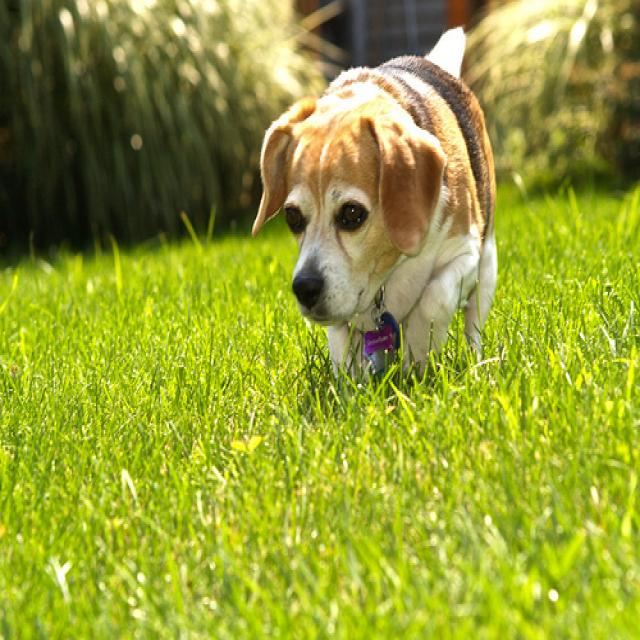dog-beagle: (238, 20, 504, 396)
